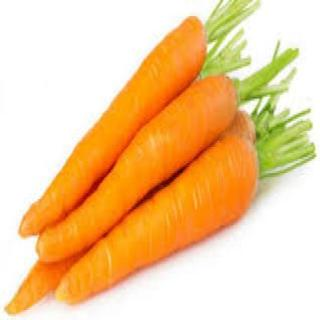Wortel: (18, 15, 206, 236), (36, 73, 238, 261), (60, 134, 259, 301)
